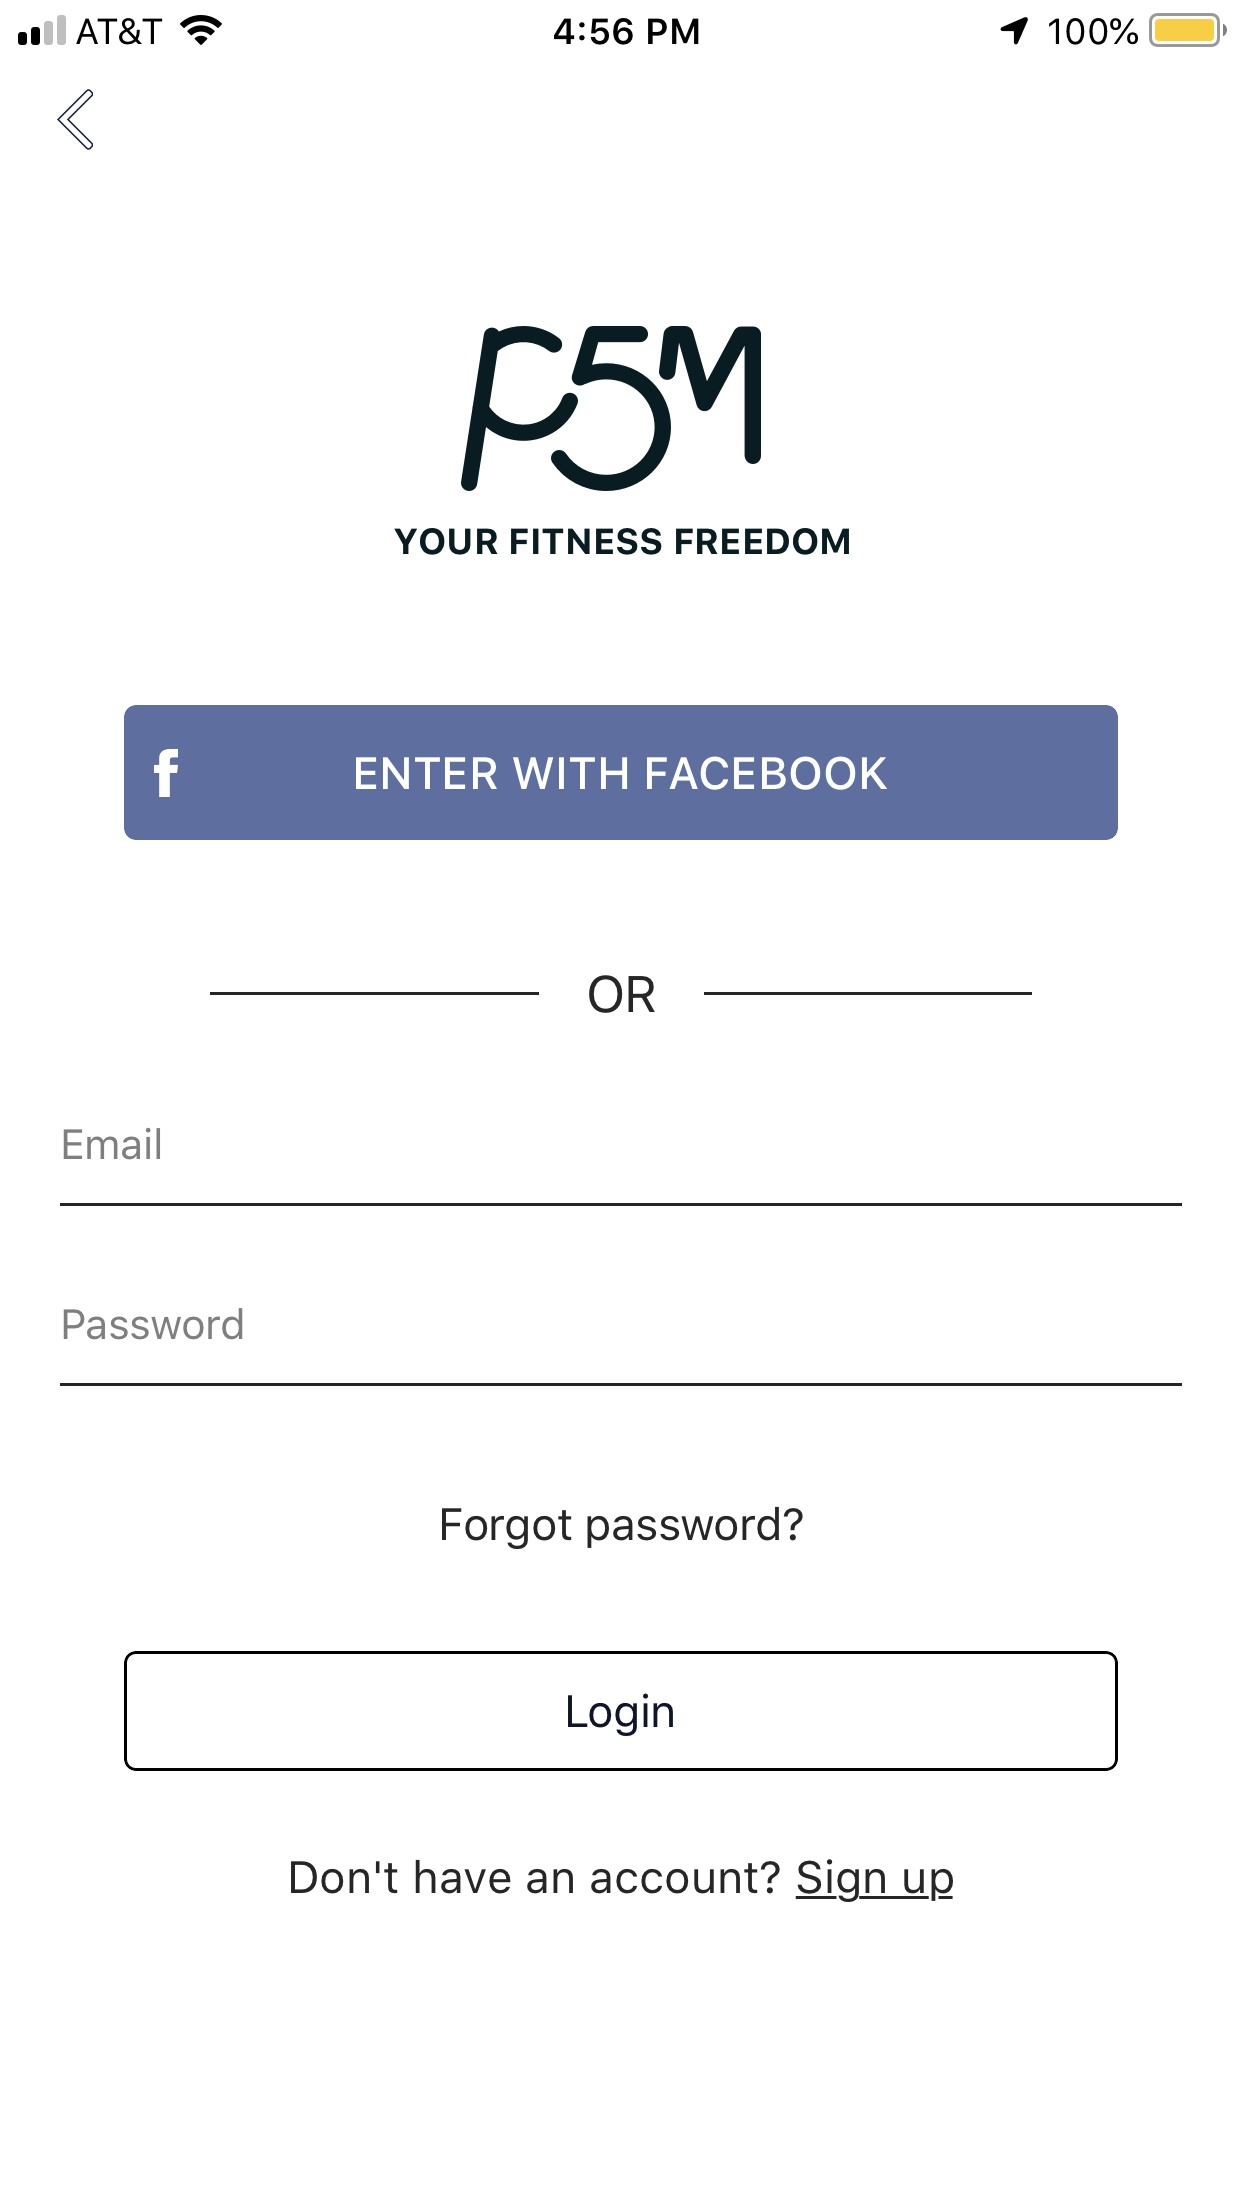EditText: (61, 1307, 1183, 1388), (61, 1127, 1183, 1207)
Icon: (58, 89, 96, 152)
Image: (459, 326, 761, 493)
Text: (290, 1858, 954, 1903), (441, 1506, 804, 1550), (394, 528, 851, 557), (64, 1307, 244, 1341), (64, 1127, 162, 1160), (588, 975, 657, 1015)
TextButton: (124, 705, 1119, 842), (124, 1650, 1119, 1771)
UpperTaskBar: (2, 2, 1242, 49)
